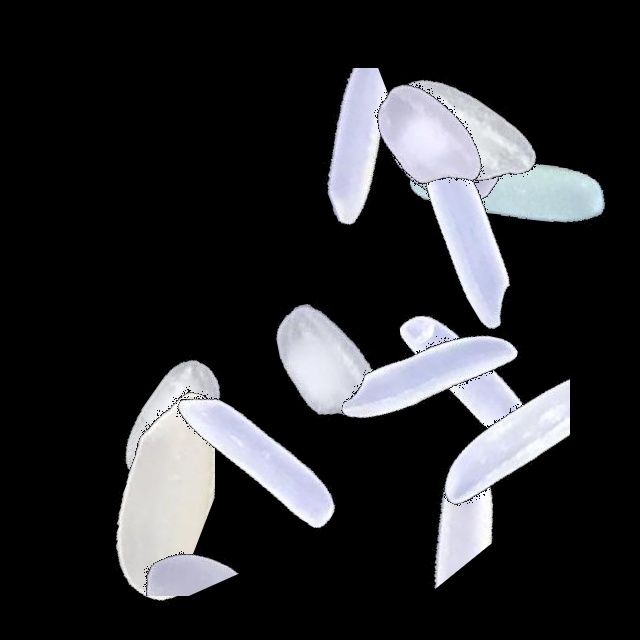Broken: (50, 356, 215, 606), (198, 68, 448, 227), (414, 286, 570, 536), (356, 382, 494, 632), (50, 470, 300, 596)
Full: (47, 298, 297, 548), (341, 260, 591, 510), (381, 62, 631, 312), (203, 233, 453, 483), (323, 31, 573, 281), (133, 332, 383, 582), (341, 111, 591, 361), (342, 3, 592, 253), (301, 12, 551, 262), (306, 255, 556, 505)
